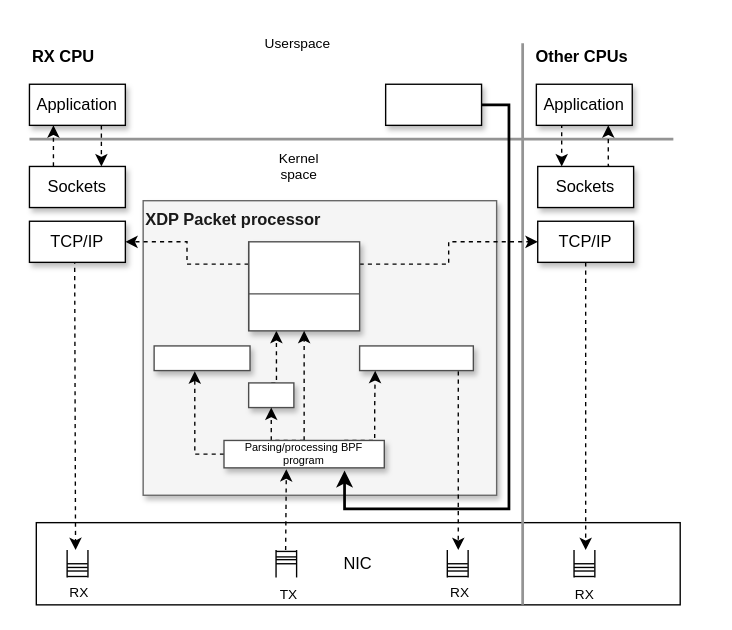
Image size: 732x630. Some labels were removed from this diagram. Here are the shapes that lost their labels. From the top down, the centre of each, then its label:
At pixel 434 106: "BPF loader".
At pixel 305 287: "Packet steering (RPS/RFS) XDP_PASS".
At pixel 202 359: "XDP_DROP".
At pixel 417 359: "XDP_REDIRECT".
At pixel 272 396: "GRO".
